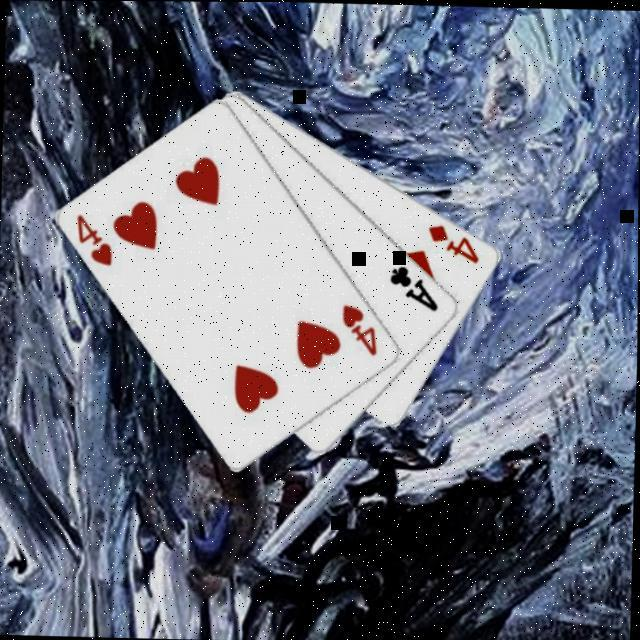4D: (424, 219, 483, 264)
4H: (72, 210, 116, 268), (338, 299, 381, 357)
AC: (386, 260, 442, 313)
